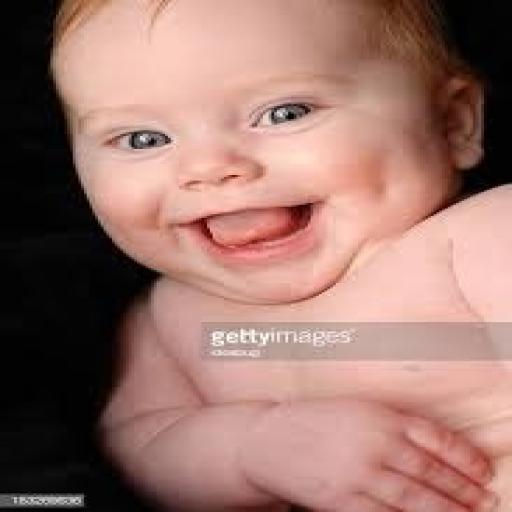laughing: (36, 0, 510, 510)
